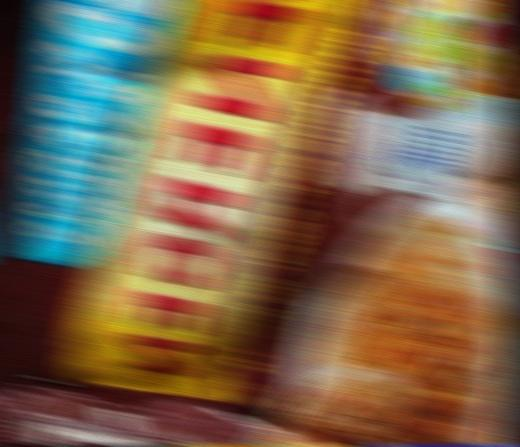colgate: (504, 445, 520, 447)
energen: (0, 0, 520, 447)
piattos cheese: (94, 445, 520, 447)
